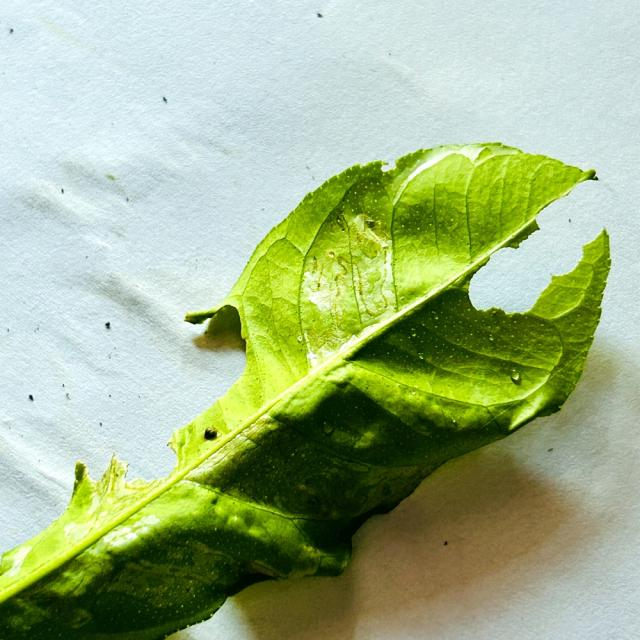Deficiency Leaf: (76, 318, 244, 478), (467, 174, 601, 313)
Lemon: (0, 143, 610, 639)
